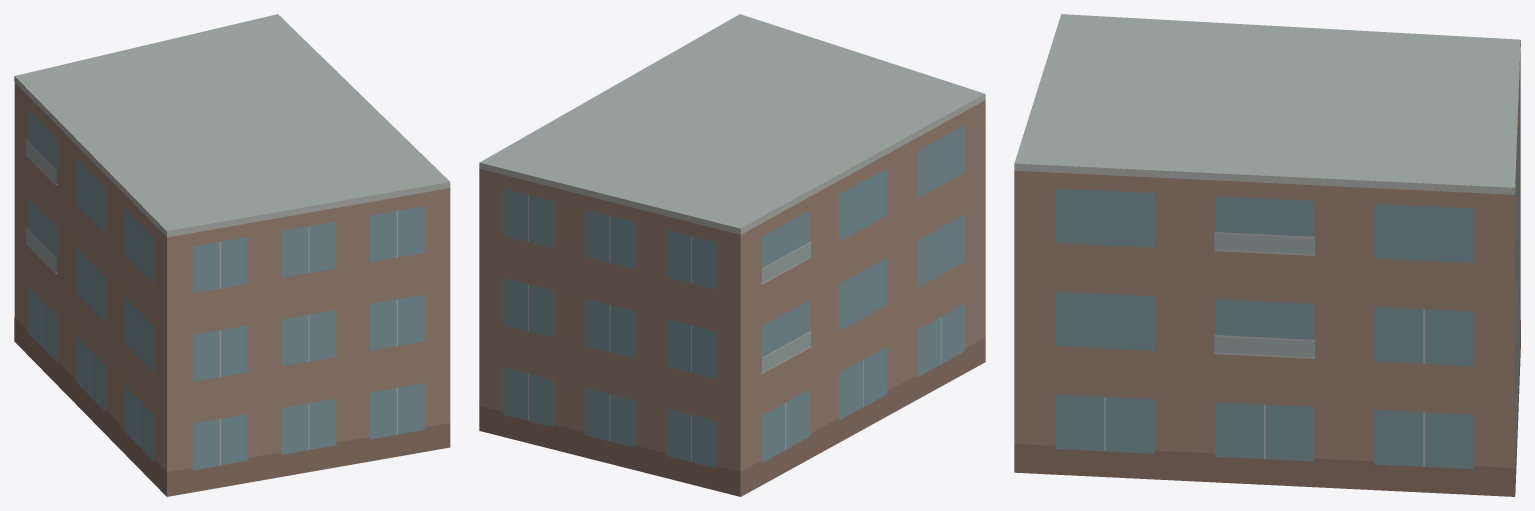
File: survey-upis-32770060.glb
The picture shows the model from 3 angles, left to right: view 1: azimuth 30°, elevation 25°; view 2: azimuth 150°, elevation 25°; view 3: azimuth 270°, elevation 25°; orthographic projection. The views are drawn at different scales.
Visible parts, largest first — view 1: survey-upis-32770060.tmp; view 2: survey-upis-32770060.tmp; view 3: survey-upis-32770060.tmp.
Part boxes in pixels (x1,y1,x2,y2): survey-upis-32770060.tmp: [14, 14, 450, 496]; survey-upis-32770060.tmp: [479, 14, 985, 496]; survey-upis-32770060.tmp: [1014, 14, 1520, 496].
Size of the model in its own units: 12.8 by 10.6 by 15.75.
